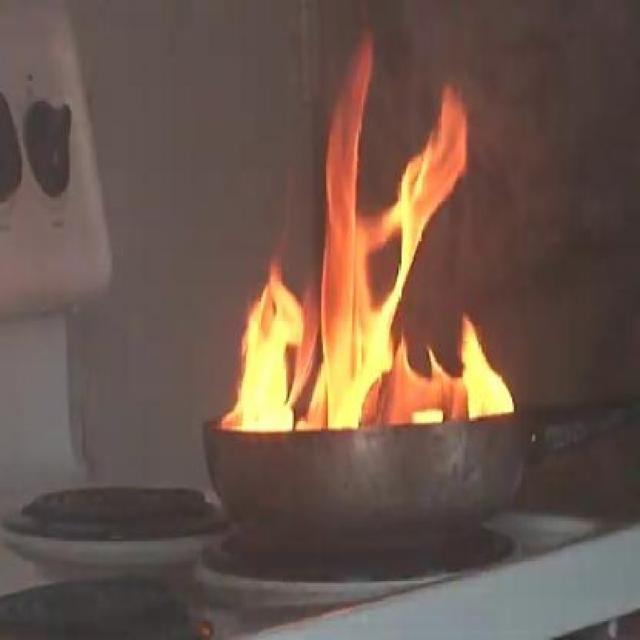fire: (224, 37, 522, 432)
